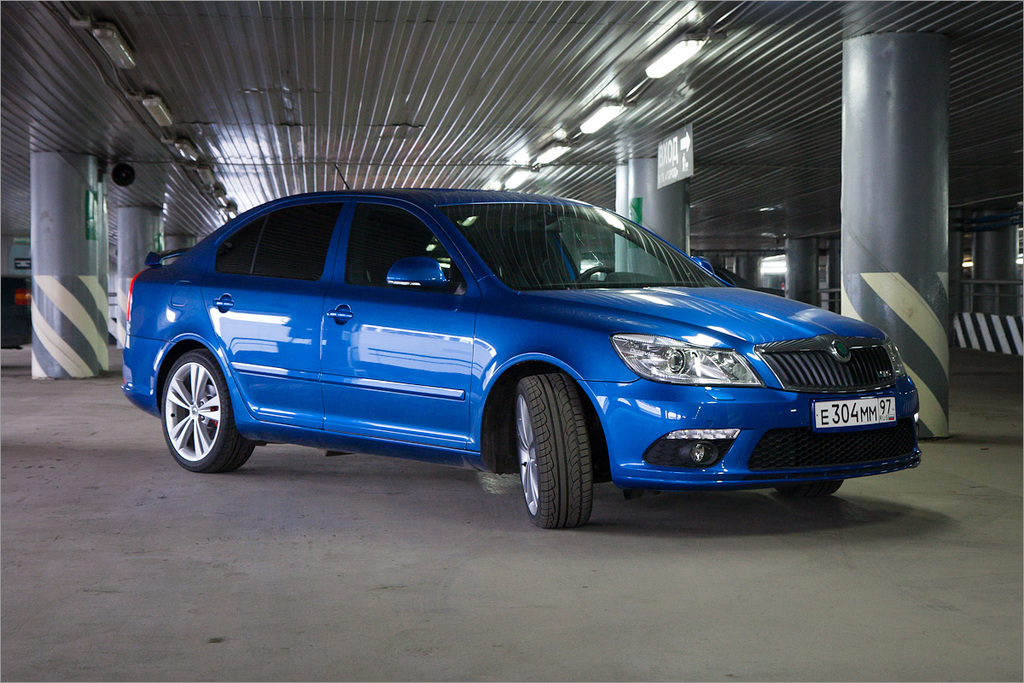mobil: (110, 168, 929, 544)
